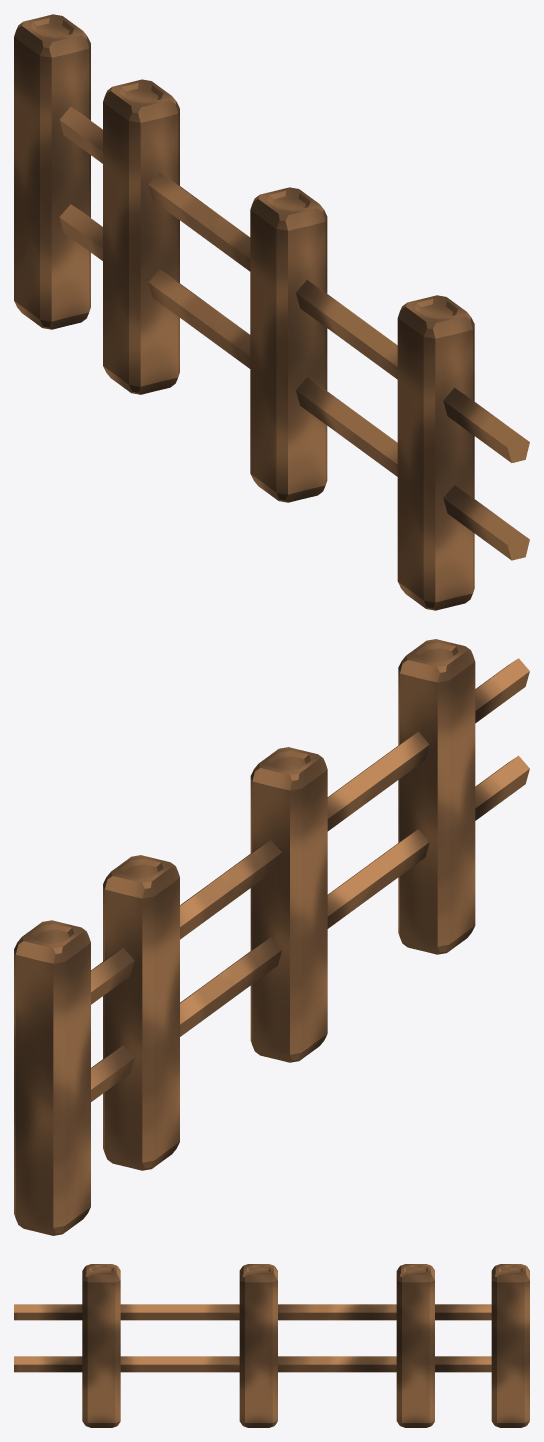
File: Fence.glb
3 renders of one model, top to bottom at view 1: azimuth 30°, elevation 25°; view 2: azimuth 150°, elevation 25°; view 3: azimuth 270°, elevation 25°, orthographic. The views are drawn at different scales.
Visible parts, largest first — view 1: Cylinder.001, Plane.001; view 2: Cylinder.001, Plane.001; view 3: Cylinder.001, Plane.001.
Part boxes in pixels (x1=…): Cylinder.001: x1=59, y1=79, x2=529, y2=610; Plane.001: x1=14, y1=14, x2=90, y2=329; Cylinder.001: x1=91, y1=639, x2=529, y2=1170; Plane.001: x1=14, y1=920, x2=90, y2=1235; Cylinder.001: x1=14, y1=1264, x2=491, y2=1427; Plane.001: x1=491, y1=1264, x2=529, y2=1427.
Bounding box in the file's own units: 0.0906 × 0.4887 × 1.49.
2 materials, 2 textured.
